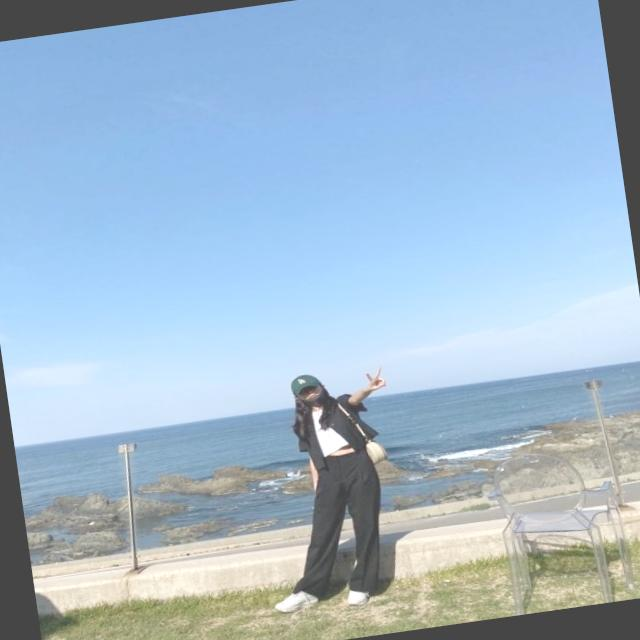blazer: (288, 390, 378, 458)
slacks: (277, 453, 395, 608)
